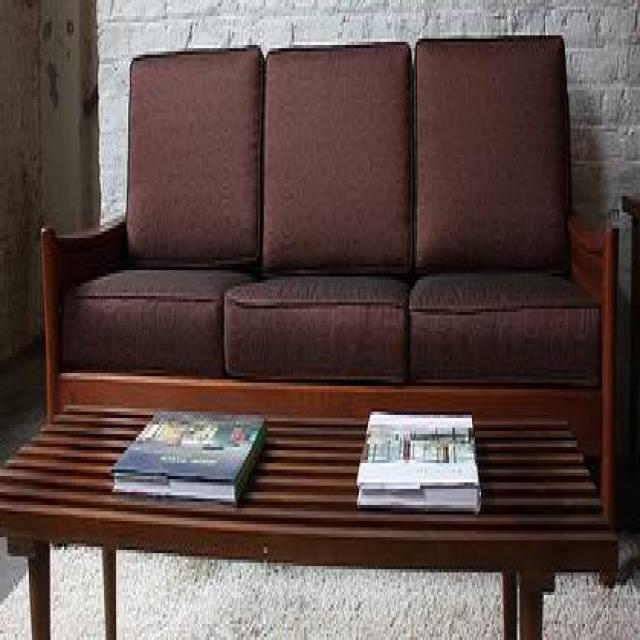sofa: (38, 32, 619, 560)
